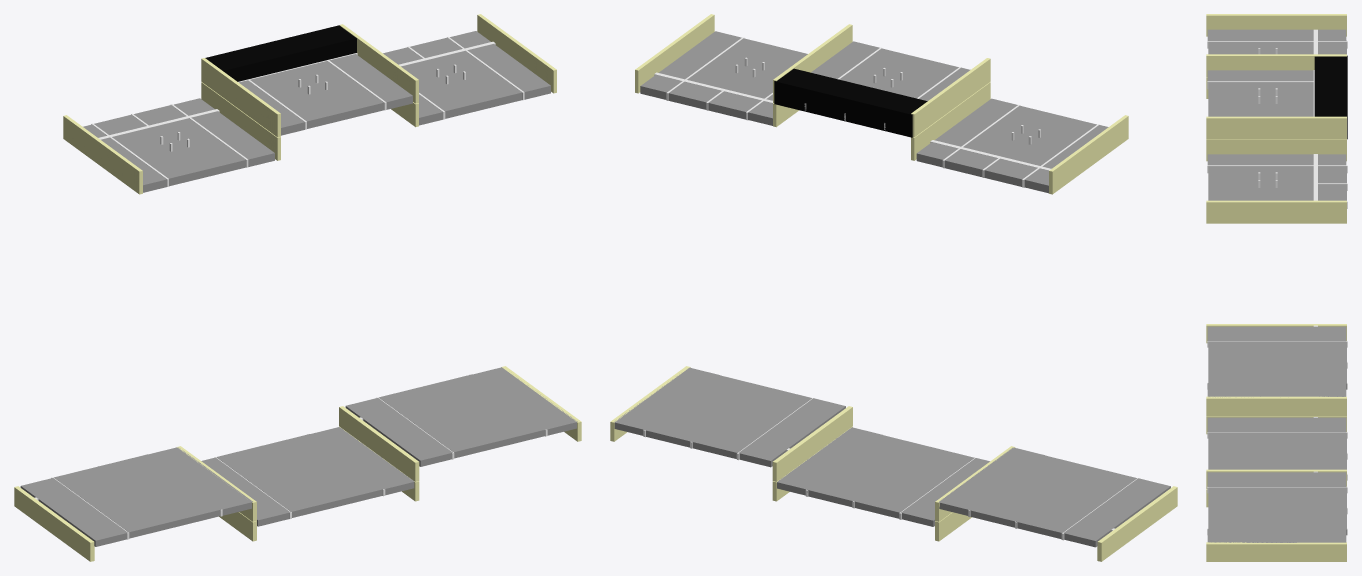
File: nhagiuatang1.fbx
The picture shows the model from 3 angles, left to right: view 1: azimuth 30°, elevation 25°; view 2: azimuth 150°, elevation 25°; view 3: azimuth 270°, elevation 25°; orthographic projection. The views are drawn at different scales.
Visible parts, largest first — view 1: imagetostl_mesh48, imagetostl_mesh76, imagetostl_mesh92, imagetostl_mesh60, imagetostl_mesh59, imagetostl_mesh75, imagetostl_mesh91, imagetostl_mesh11, imagetostl_mesh43, imagetostl_mesh42, imagetostl_mesh58, imagetostl_mesh90 (+19 smaller); view 2: imagetostl_mesh48, imagetostl_mesh76, imagetostl_mesh92, imagetostl_mesh60, imagetostl_mesh75, imagetostl_mesh59, imagetostl_mesh91, imagetostl_mesh43, imagetostl_mesh11, imagetostl_mesh42, imagetostl_mesh58, imagetostl_mesh90 (+18 smaller); view 3: imagetostl_mesh1, imagetostl_mesh17, imagetostl_mesh59, imagetostl_mesh60, imagetostl_mesh76, imagetostl_mesh92, imagetostl_mesh91, imagetostl_mesh49, imagetostl_mesh81, imagetostl_mesh10, imagetostl_mesh11, imagetostl_mesh75 (+21 smaller).
Boxes of the visible parts, x1,y1,x2,y2 form: imagetostl_mesh48: (205,25,356,81); imagetostl_mesh76: (216,445,338,517); imagetostl_mesh92: (379,386,500,458); imagetostl_mesh60: (54,466,175,538); imagetostl_mesh59: (101,454,221,526); imagetostl_mesh75: (263,434,384,506); imagetostl_mesh91: (426,374,547,446); imagetostl_mesh11: (410,37,522,109); imagetostl_mesh43: (134,105,246,176); imagetostl_mesh42: (91,114,206,186); imagetostl_mesh58: (20,478,127,546); imagetostl_mesh90: (345,398,452,466); imagetostl_mesh48: (774,68,927,137); imagetostl_mesh76: (853,446,974,518); imagetostl_mesh92: (690,386,811,458); imagetostl_mesh60: (1015,466,1136,539); imagetostl_mesh75: (805,434,927,506); imagetostl_mesh59: (968,455,1089,527); imagetostl_mesh91: (643,375,764,447); imagetostl_mesh43: (944,105,1058,177); imagetostl_mesh11: (668,38,782,110); imagetostl_mesh42: (984,115,1096,187); imagetostl_mesh58: (1063,478,1170,547); imagetostl_mesh90: (739,398,845,467); imagetostl_mesh1: (1206,200,1346,223); imagetostl_mesh17: (1206,116,1346,139); imagetostl_mesh59: (1208,362,1346,389); imagetostl_mesh60: (1208,341,1346,362); imagetostl_mesh76: (1208,432,1346,453); imagetostl_mesh92: (1208,487,1346,508); imagetostl_mesh91: (1208,508,1346,535); imagetostl_mesh49: (1206,396,1346,416); imagetostl_mesh81: (1206,542,1346,561); imagetostl_mesh10: (1208,166,1346,183); imagetostl_mesh11: (1208,183,1346,200); imagetostl_mesh75: (1208,453,1346,469).
Size of the model in its own units: 12100 by 9912 by 3265.
